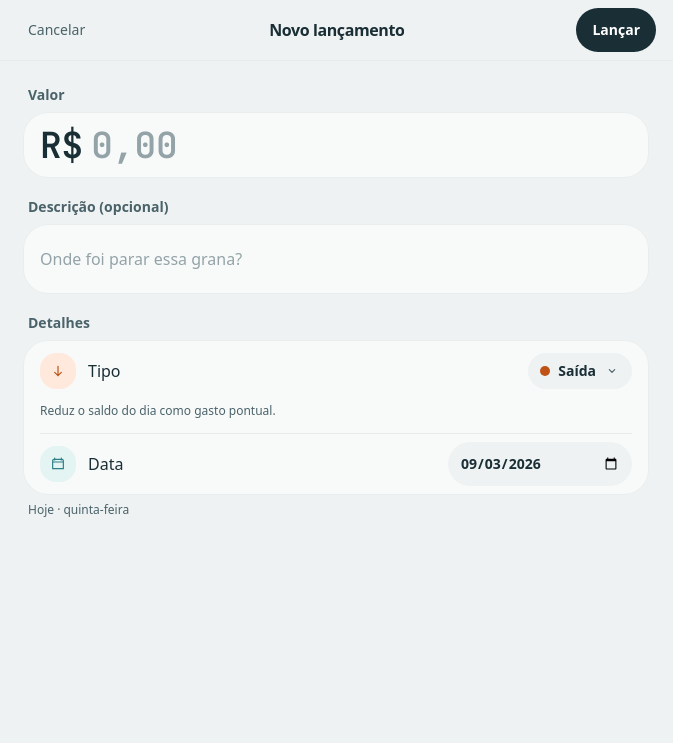
TransactionForm › should explain what the selected kind does to the balance
Expected: the button "Cancelar" is shown, left=16, top=8, right=97, bottom=52
Expected: the text "Reduz o saldo do dia como gasto pontual." is shown, left=40, top=402, right=276, bottom=419
Click the button with aria-label "Tipo: Saída". click: (58, 371)
box: left=24, top=341, right=648, bottom=401
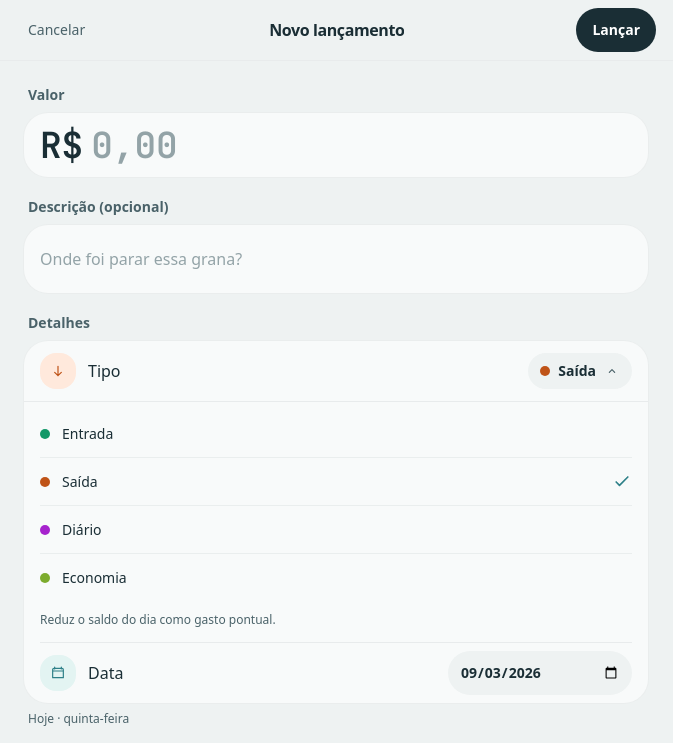
Expected: the radio button labelled "Entrada" is shown
Expected: the radio button labelled "Saída" is shown, left=40, top=458, right=632, bottom=506
Expected: the radio button labelled "Diário" is shown, left=40, top=506, right=632, bottom=554
Click the radio button labelled "Entrada". click: (88, 433)
box: left=40, top=410, right=632, bottom=458
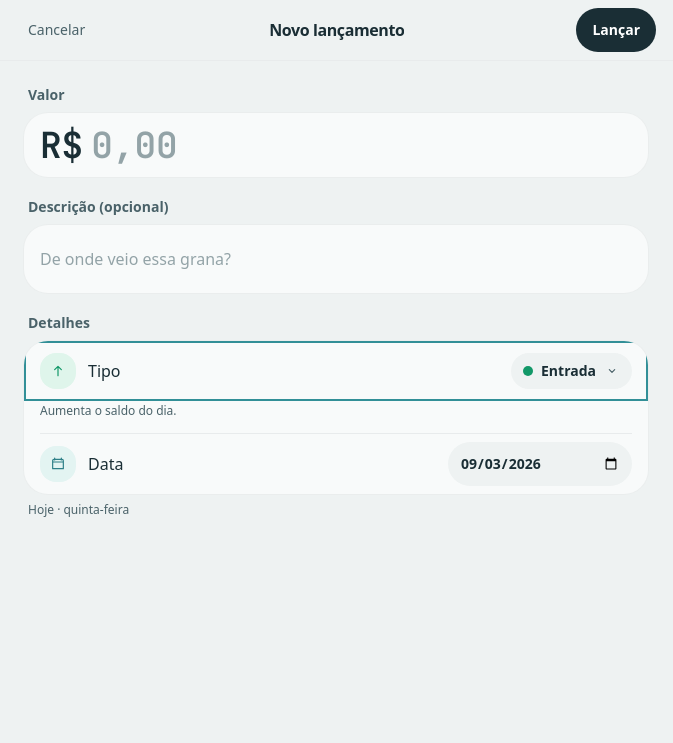
Expected: the button with aria-label "Tipo: Entrada" is collapsed, left=24, top=341, right=648, bottom=401
Expected: the text "Aumenta o saldo do dia." is shown, left=40, top=402, right=177, bottom=419
